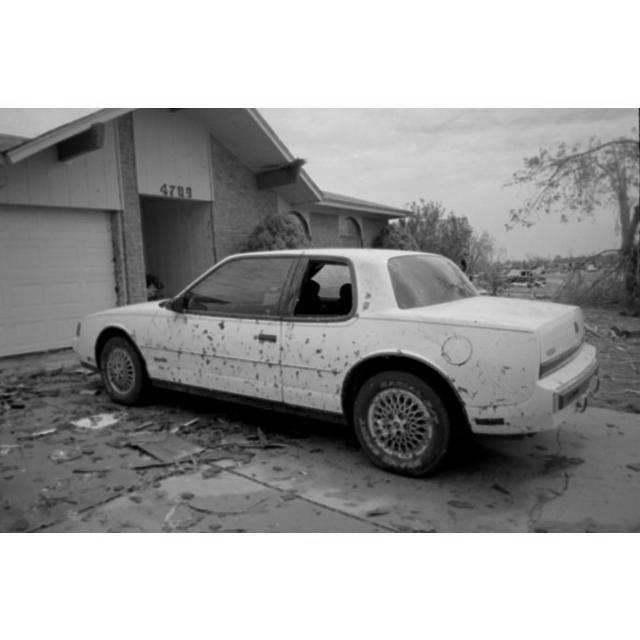doorouter-dent: (277, 261, 351, 397)
